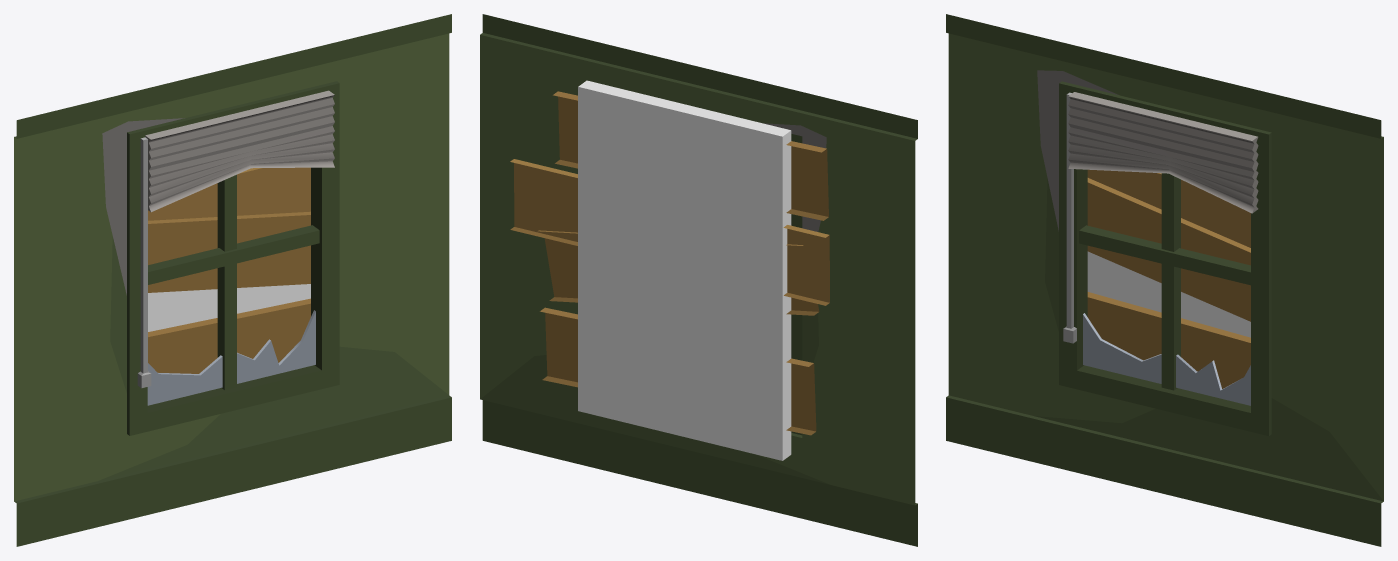
Rendered from AI_Env_Wall_Green_Window_01_Blinds.fbx.
3 renders of one model, left to right at view 1: azimuth 30°, elevation 25°; view 2: azimuth 150°, elevation 25°; view 3: azimuth 330°, elevation 25°, orthographic.
Parts seen in each view (by area): view 1: AI_Env_Wall_Green_Window_01_Blinds; view 2: AI_Env_Wall_Green_Window_01_Blinds; view 3: AI_Env_Wall_Green_Window_01_Blinds.
Boxes of the visible parts, left/top/right/bottom form: AI_Env_Wall_Green_Window_01_Blinds: left=14, top=14, right=451, bottom=546; AI_Env_Wall_Green_Window_01_Blinds: left=480, top=14, right=917, bottom=546; AI_Env_Wall_Green_Window_01_Blinds: left=946, top=14, right=1383, bottom=546.
Bounding box in the file's own units: 5 × 4.69 × 0.5083.
